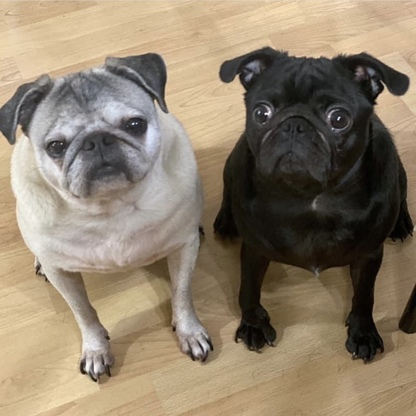Pug: (2, 51, 217, 383), (213, 40, 416, 369)
